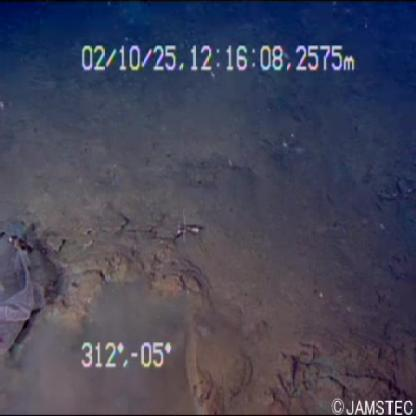Rác: (1, 216, 50, 376)
